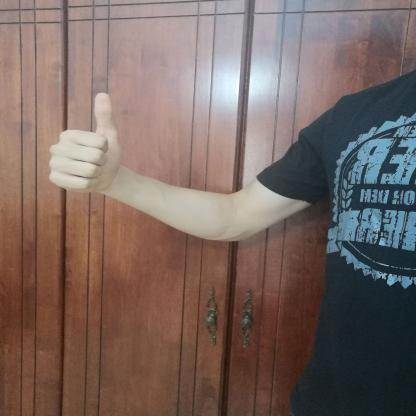ALIF: (35, 80, 140, 204)
